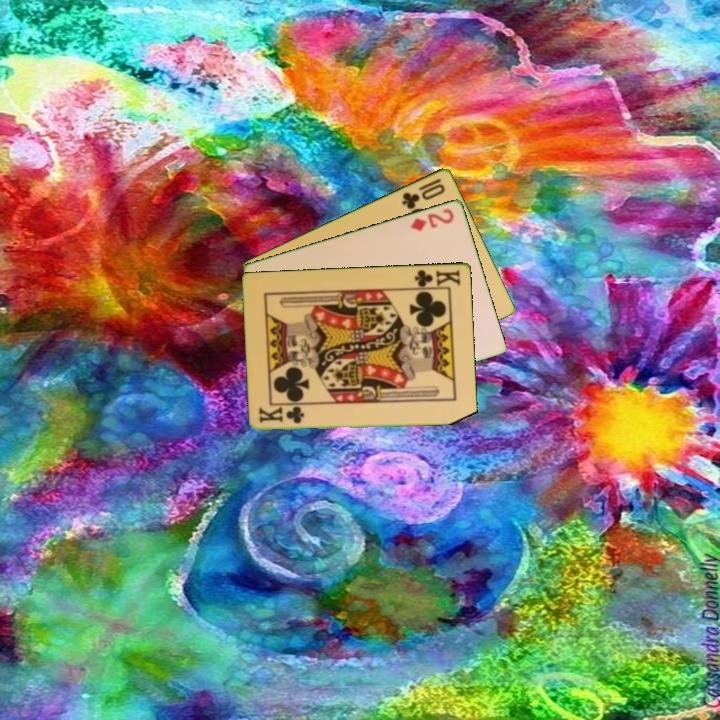10c: (398, 174, 448, 212)
2d: (407, 205, 457, 234)
Kc: (409, 266, 463, 290), (256, 405, 307, 426)
